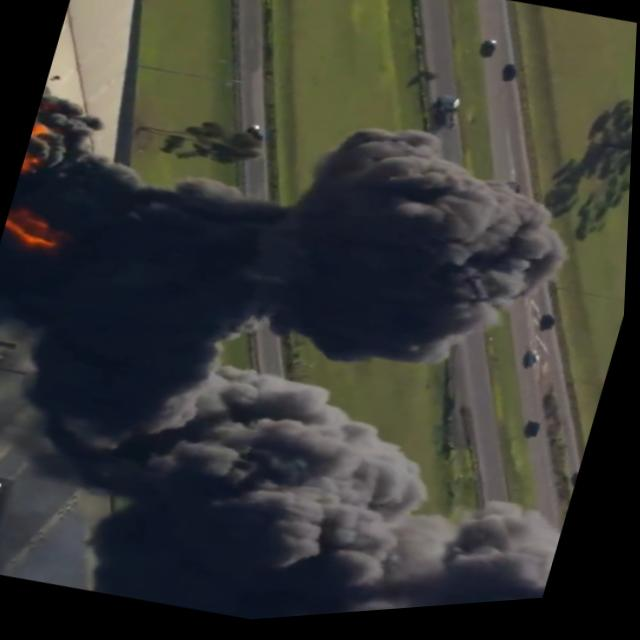Fire: (0, 113, 74, 261)
